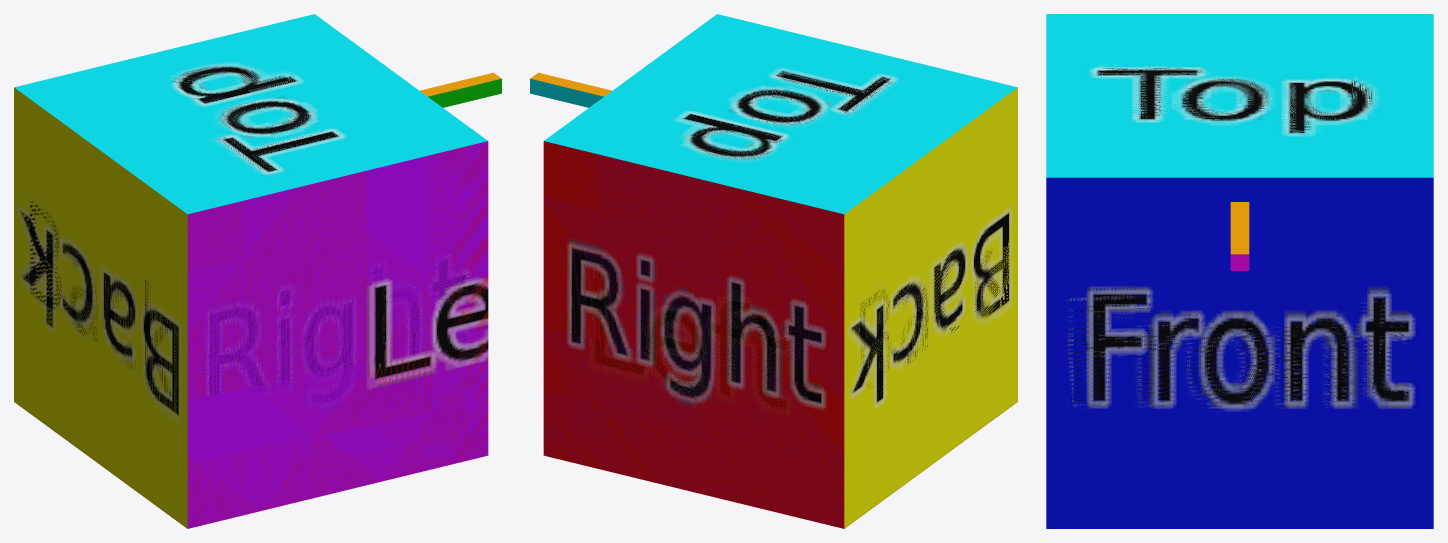
The model's file is TestCube.fbx.
The picture shows the model from 3 angles, left to right: view 1: azimuth 30°, elevation 25°; view 2: azimuth 150°, elevation 25°; view 3: azimuth 270°, elevation 25°; orthographic projection. The views are drawn at different scales.
Visible parts, largest first — view 1: cube, shaft_sticking_out_of_the_front; view 2: cube, shaft_sticking_out_of_the_front; view 3: cube, shaft_sticking_out_of_the_front.
Part boxes in pixels (left/top/right/bottom): cube: left=14, top=14, right=488, bottom=528; shaft_sticking_out_of_the_front: left=420, top=72, right=501, bottom=107; cube: left=543, top=14, right=1017, bottom=528; shaft_sticking_out_of_the_front: left=530, top=72, right=611, bottom=107; cube: left=1046, top=14, right=1433, bottom=528; shaft_sticking_out_of_the_front: left=1230, top=202, right=1249, bottom=270.
Size of the model in its own units: 3.3 by 2.5 by 2.5.
